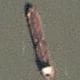ship: (37, 0, 43, 40)
